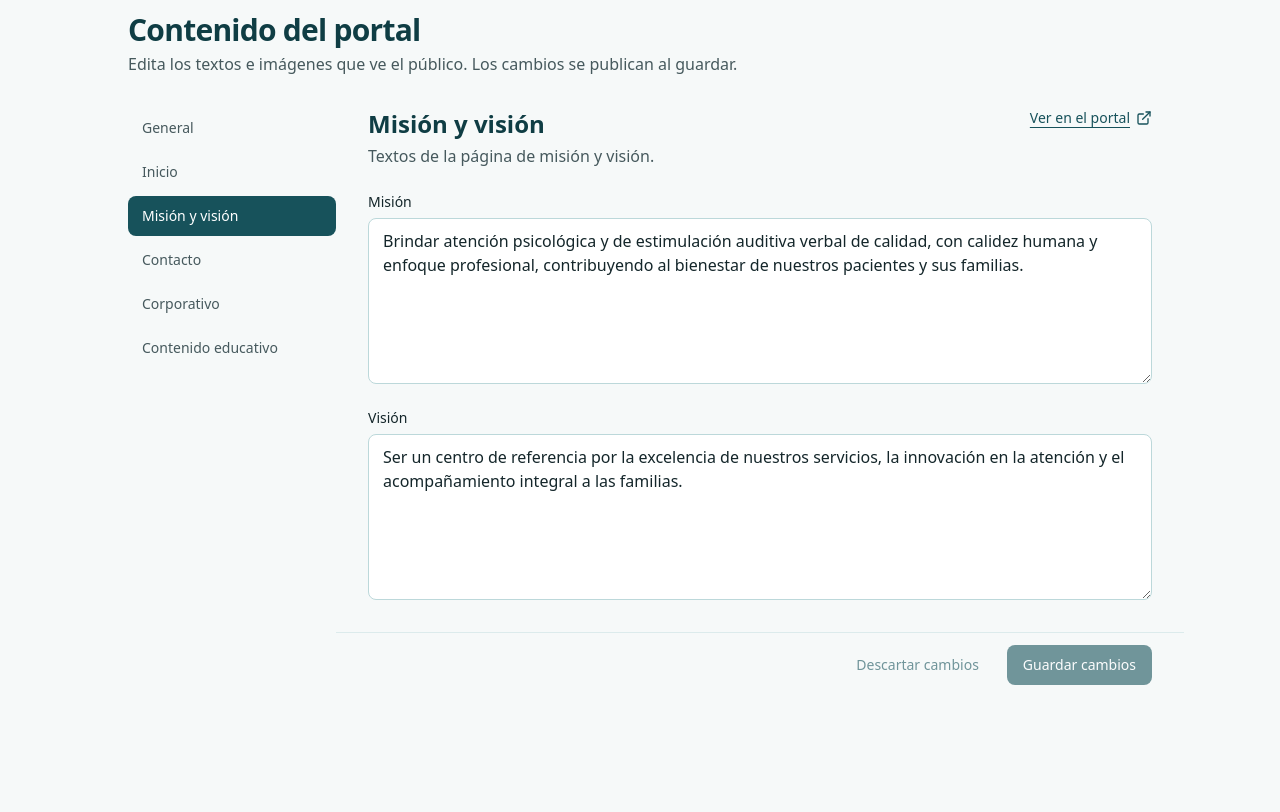
Editor de contenido › guardar y descartar solo se habilitan cuando hay cambios
The image size is (1280, 812).
Check: the button "Guardar cambios" is disabled, box x1=1007 y1=645 x2=1152 y2=685
Check: the button "Descartar cambios" is disabled, box x1=840 y1=645 x2=995 y2=685
Type " Texto nuevo." into the text box labelled "Misión" at (760, 301), box x1=368 y1=218 x2=1152 y2=384
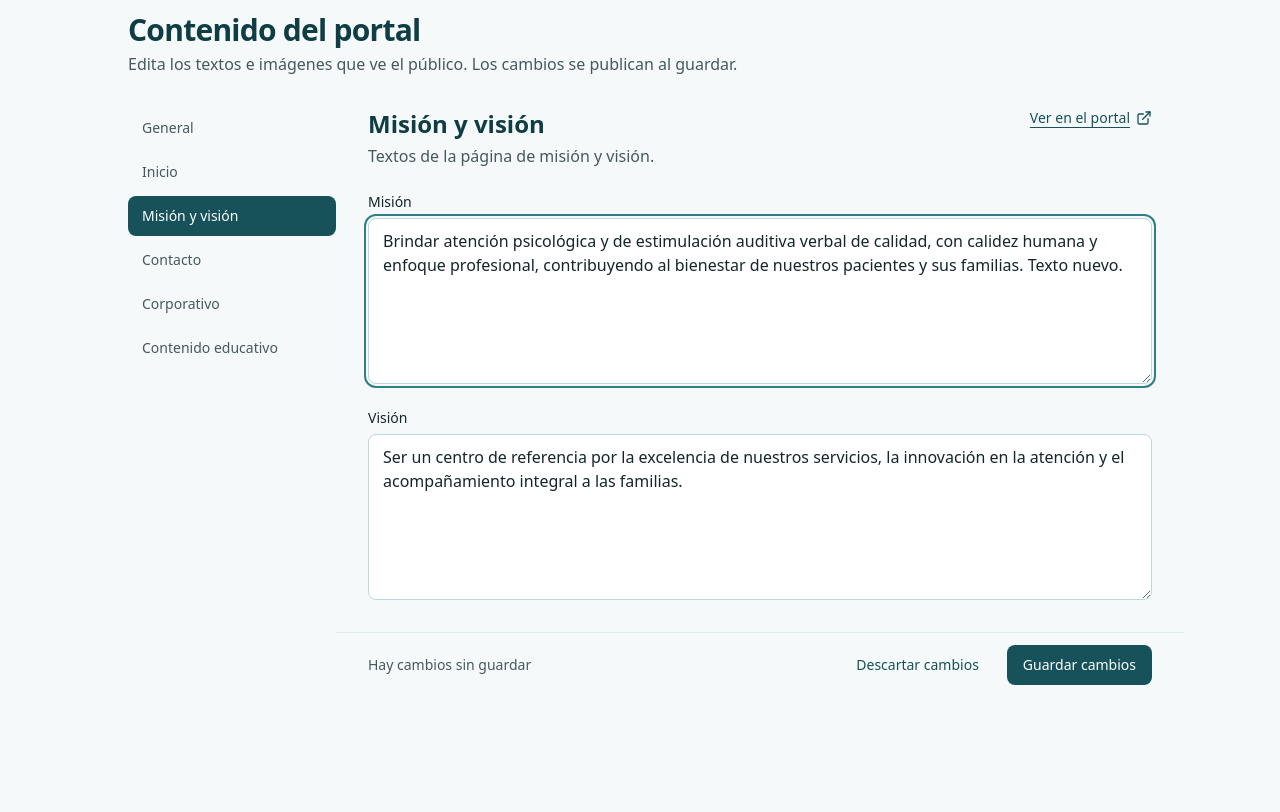
Check: the button "Guardar cambios" is enabled, box x1=1007 y1=645 x2=1152 y2=685
Check: the text "Hay cambios sin guardar" is shown, box x1=368 y1=655 x2=531 y2=675
Click the button "Descartar cambios" at (918, 665), box x1=840 y1=645 x2=995 y2=685
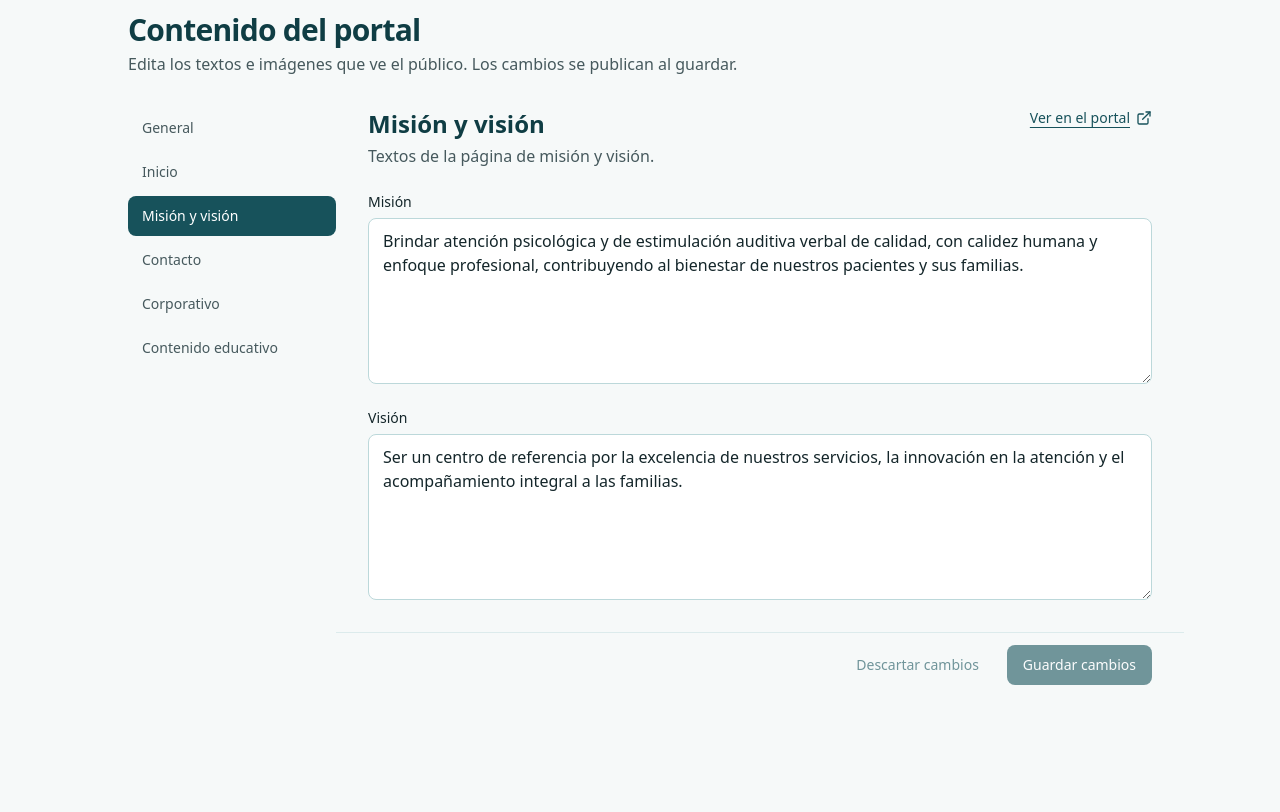
Check: the text box labelled "Misión" holds "Brindar atención psicológica y de estimulación auditiva verbal de calidad, con calidez humana y enfoque profesional, contribuyendo al bienestar de nuestros paci", box x1=368 y1=218 x2=1152 y2=384
Check: the button "Guardar cambios" is disabled, box x1=1007 y1=645 x2=1152 y2=685
